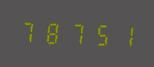eight: (41, 18, 63, 46)
five: (87, 20, 109, 48)
one: (110, 21, 132, 48)
seven: (18, 17, 40, 45), (64, 19, 86, 47)
